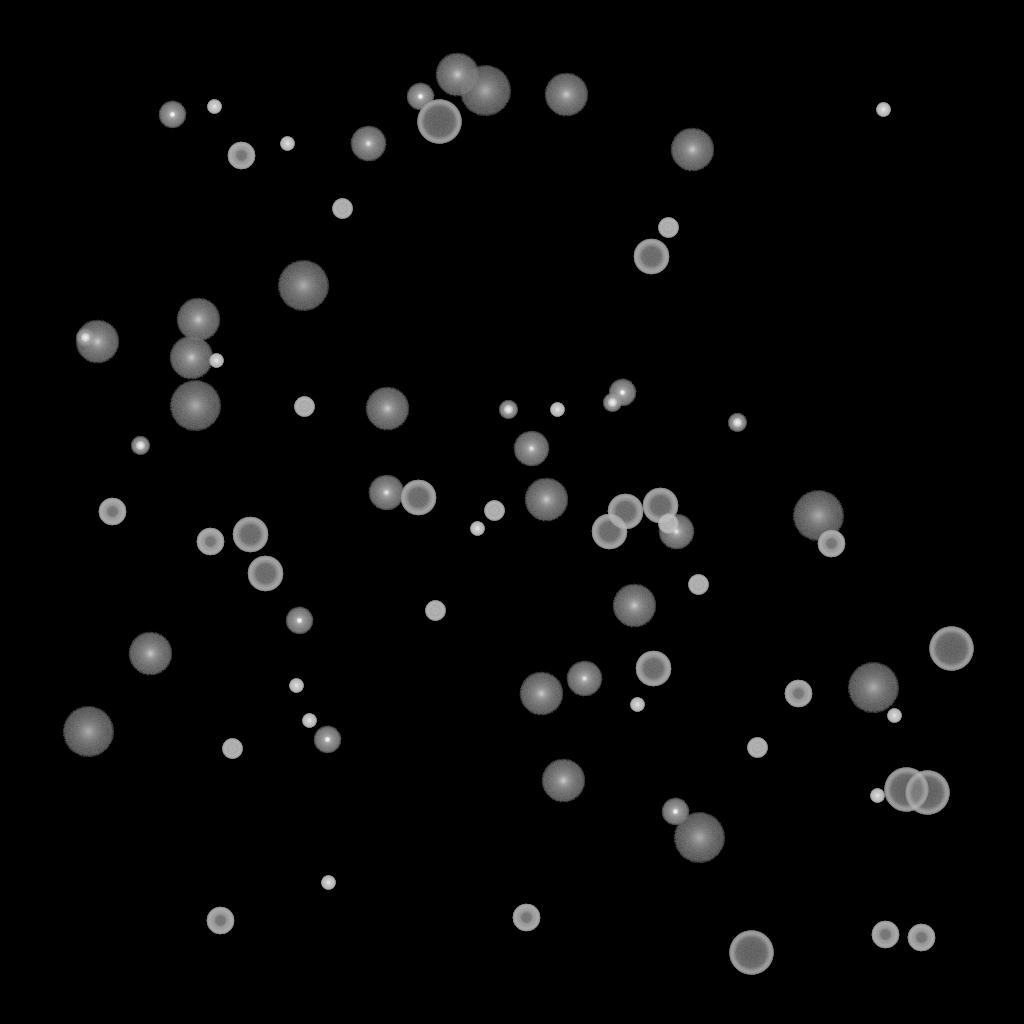depth:-10: (285, 607, 313, 635), (406, 83, 434, 111), (313, 726, 341, 754), (661, 798, 689, 826), (158, 101, 186, 129), (608, 379, 636, 407)
depth:-20: (728, 414, 746, 432), (603, 394, 621, 412), (131, 437, 149, 455), (76, 329, 94, 347), (499, 401, 517, 419)
depth:-30: (876, 103, 890, 117), (302, 714, 316, 728), (280, 137, 294, 151), (209, 354, 223, 368), (470, 522, 484, 536), (289, 679, 303, 693), (207, 100, 221, 114), (550, 403, 564, 417), (321, 876, 335, 890), (887, 709, 901, 723), (630, 698, 644, 712), (870, 789, 884, 803)
depth:-40: (332, 199, 352, 219), (658, 218, 678, 238), (222, 739, 242, 759), (688, 575, 708, 595), (294, 397, 314, 417), (484, 501, 504, 521), (747, 738, 767, 758), (425, 601, 445, 621), (658, 514, 678, 534)
depth:-50: (227, 142, 255, 170), (784, 680, 812, 708), (98, 498, 126, 526), (817, 530, 845, 558), (907, 924, 935, 952), (871, 921, 899, 949), (206, 907, 234, 935), (512, 904, 540, 932), (196, 528, 224, 556)
depth:-60: (247, 556, 283, 592), (591, 514, 627, 550), (607, 494, 643, 530), (633, 239, 669, 275), (232, 517, 268, 553), (635, 651, 671, 687), (642, 488, 678, 524), (400, 480, 436, 516)
depth:-70: (905, 771, 949, 815), (417, 100, 461, 144), (929, 627, 973, 671), (884, 768, 928, 812), (729, 931, 773, 975)
depth:0: (350, 126, 386, 162), (658, 514, 694, 550), (566, 661, 602, 697), (513, 431, 549, 467), (368, 475, 404, 511)
depth:10: (541, 759, 585, 803), (519, 672, 563, 716), (524, 478, 568, 522), (365, 387, 409, 431), (435, 53, 479, 97), (544, 73, 588, 117), (612, 584, 656, 628), (128, 632, 172, 676), (176, 298, 220, 342), (75, 320, 119, 364), (169, 336, 213, 380), (670, 128, 714, 172)
depth:20: (673, 813, 725, 863), (847, 663, 899, 713), (277, 261, 329, 311), (169, 381, 221, 431), (792, 491, 844, 541), (459, 66, 511, 116), (62, 707, 114, 757)
